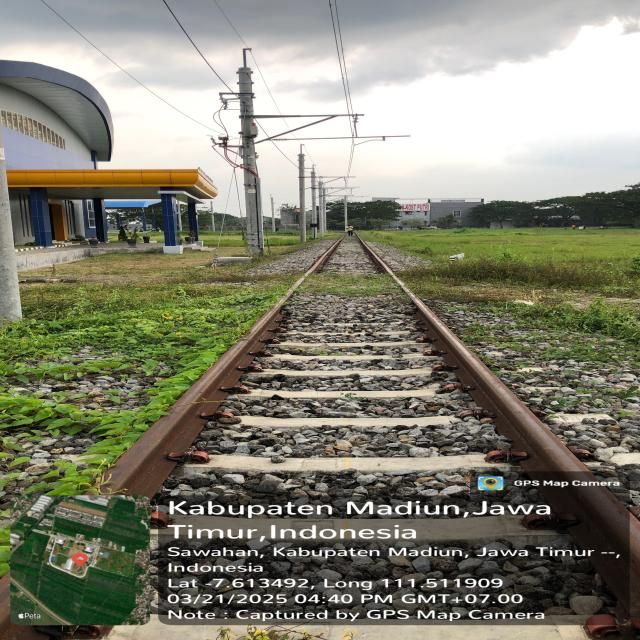rail-detection: (410, 293, 640, 622), (108, 300, 284, 497)
